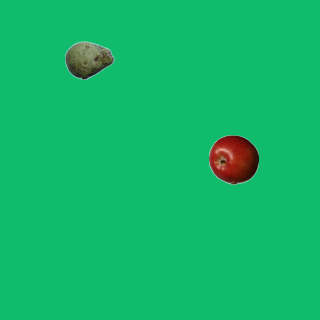Apple Braeburn: (208, 134, 258, 184)
Pear Stone: (64, 35, 114, 85)
